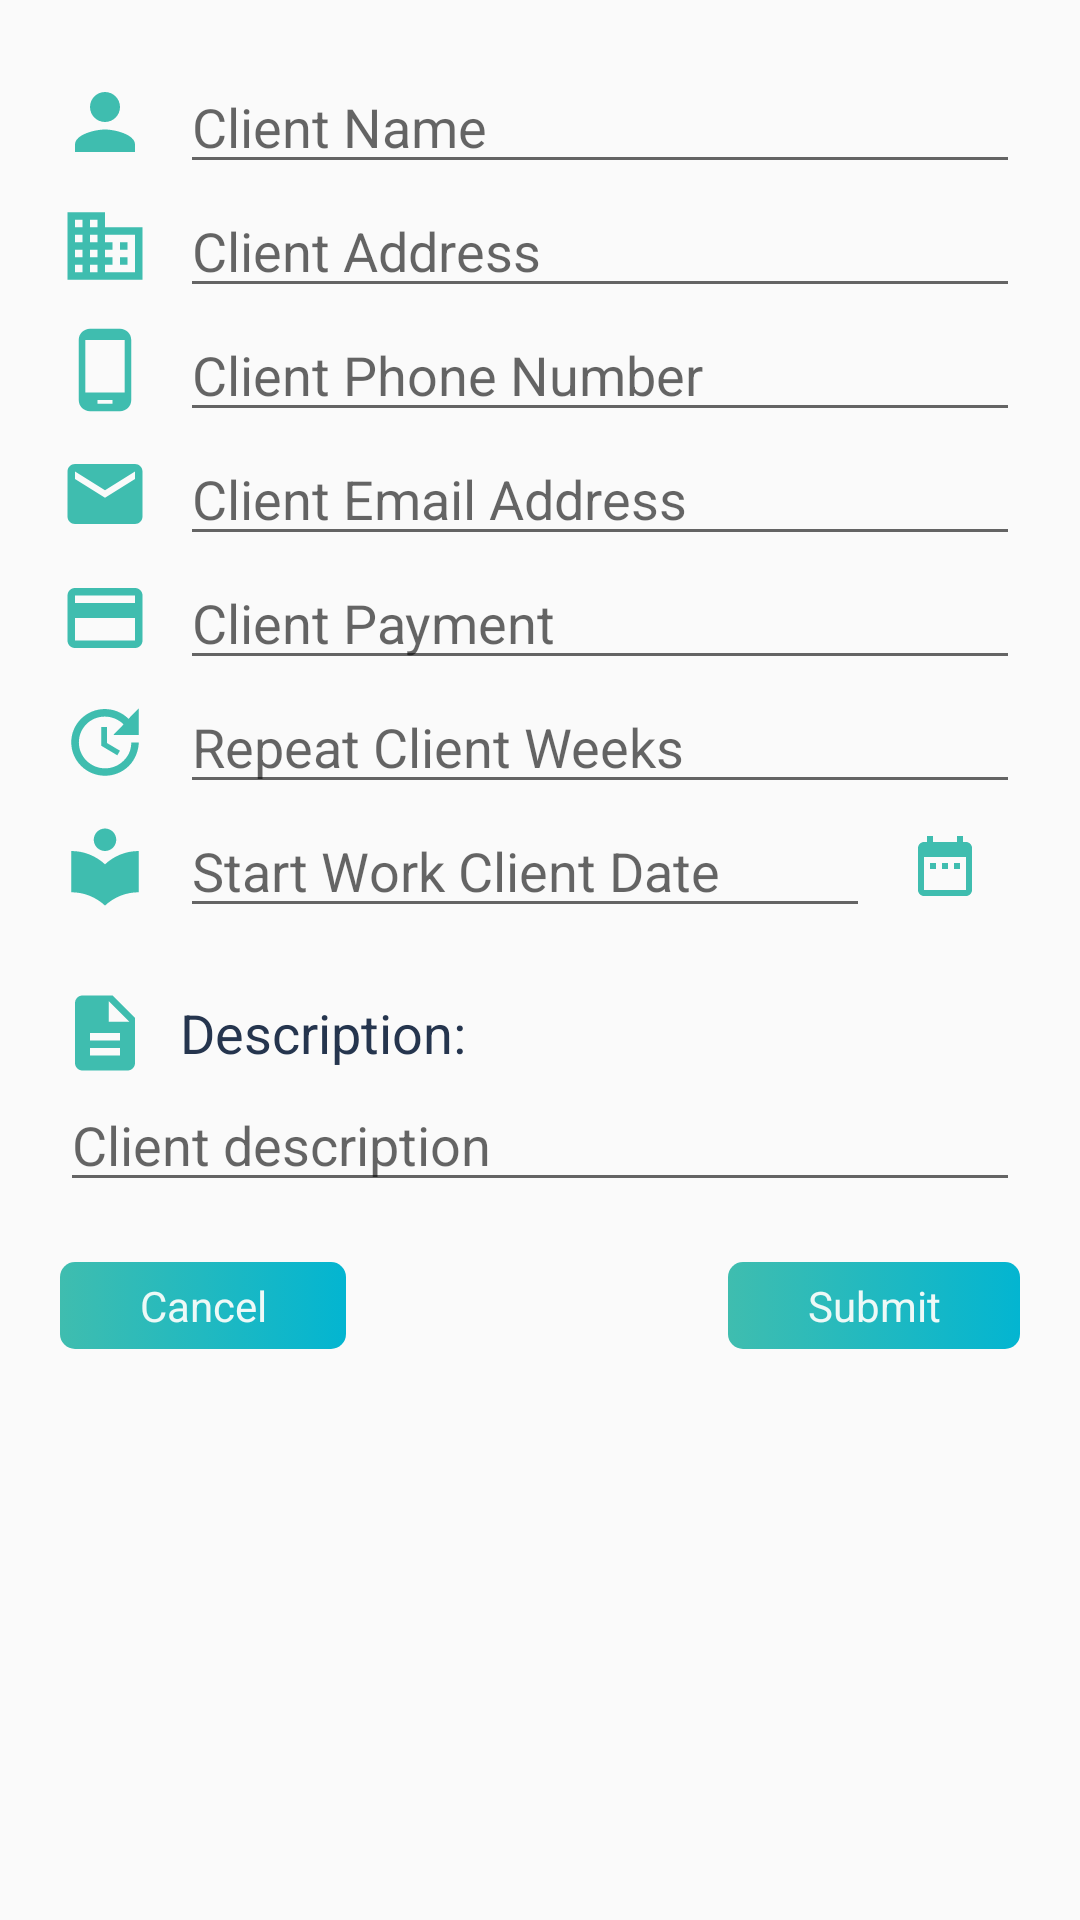

Icons on this 1080x1920 Android screen, each with its box as [x1, y1, x2, y2]:
clients add activity address: [67, 212, 143, 280]
clients add activity calendar: [918, 836, 972, 896]
clients add activity client: [75, 92, 135, 152]
clients add activity email: [67, 464, 143, 524]
clients add activity payment: [67, 588, 143, 648]
clients add activity phone: [78, 328, 132, 412]
clients add activity repeat: [71, 708, 139, 776]
